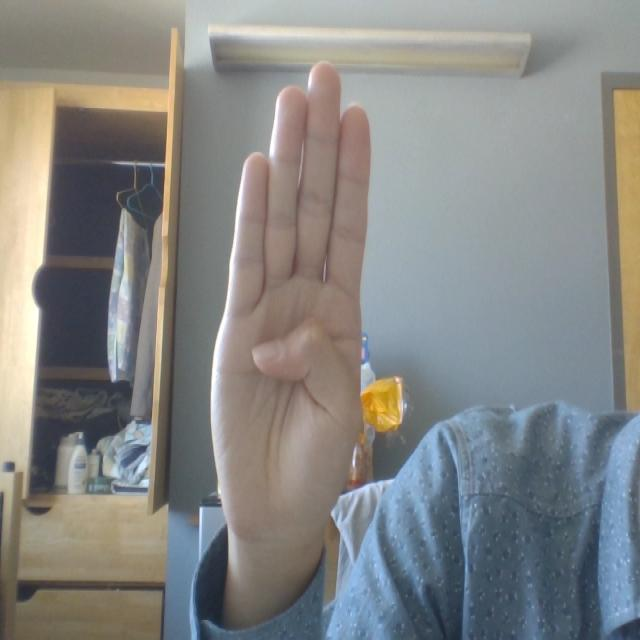B: (204, 36, 393, 559)
